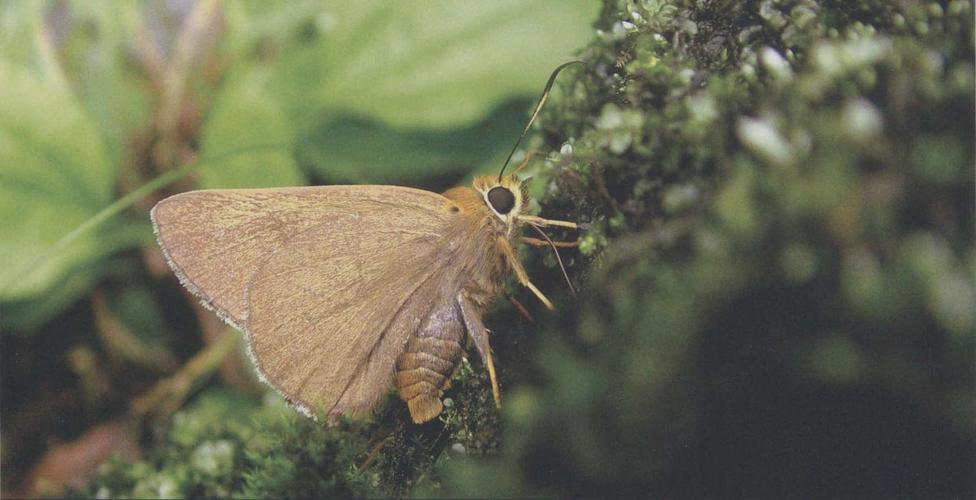Hesperiidae: (144, 56, 607, 437)
